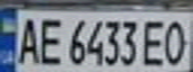3: (118, 16, 142, 68), (103, 17, 124, 66)
4: (84, 16, 106, 68)
6: (63, 16, 87, 66)
A: (12, 14, 42, 66)
E: (139, 16, 172, 68), (33, 14, 66, 66)
O: (160, 16, 193, 66)
